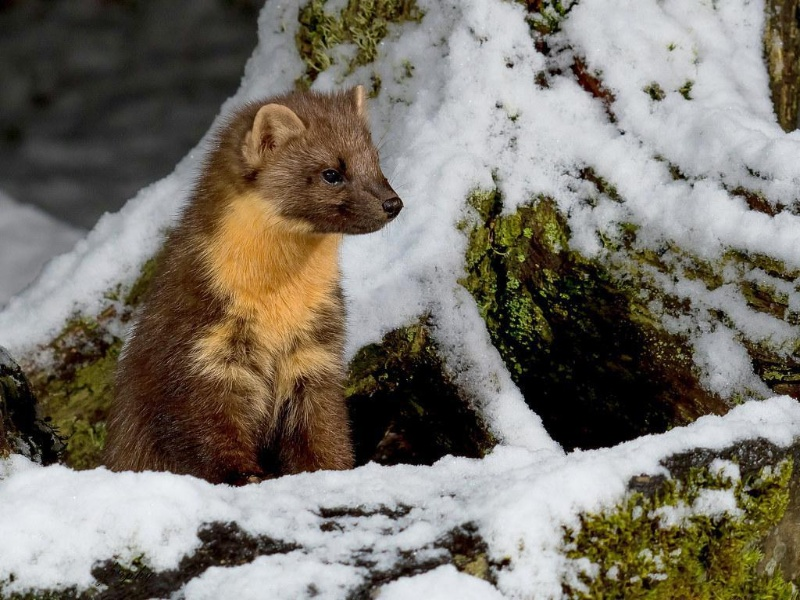minkish: (98, 81, 405, 484)
